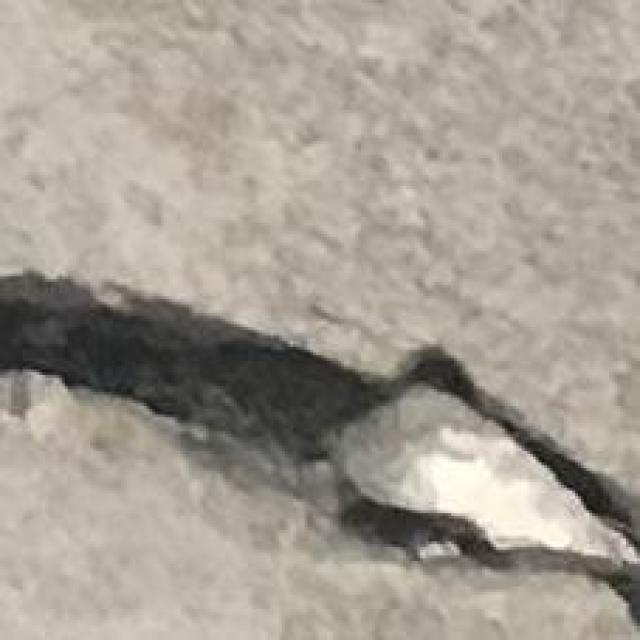Crack: (0, 225, 632, 572)
